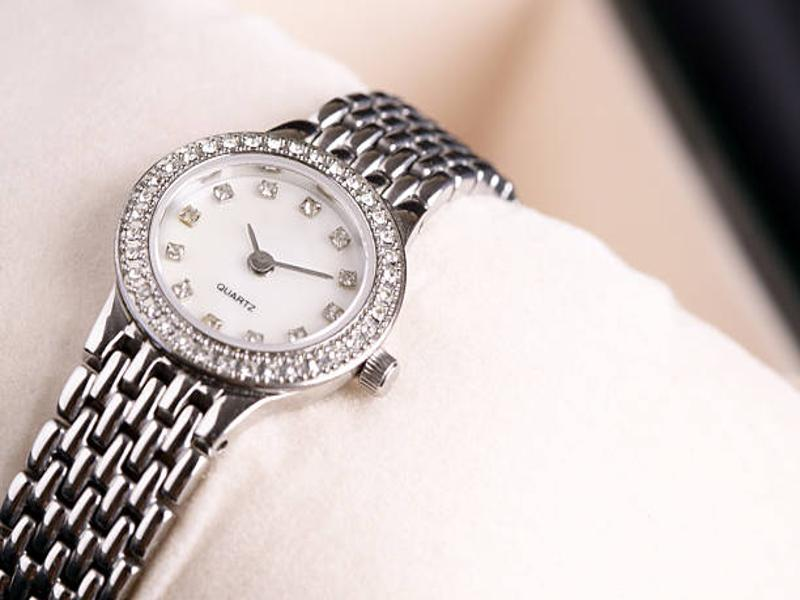watch: (1, 84, 520, 595)
